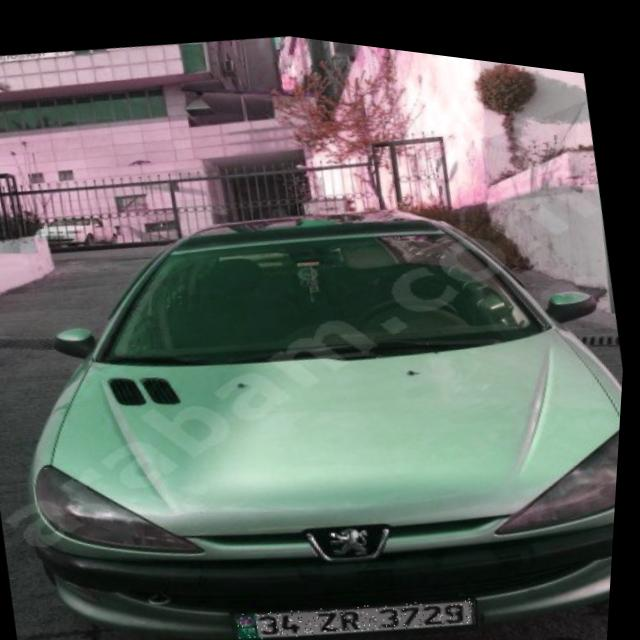license_plate: (241, 562, 484, 640)
